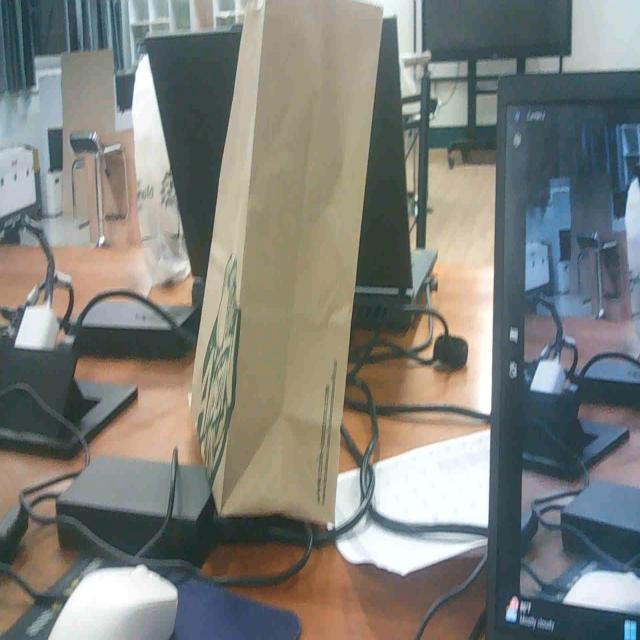bag: (196, 0, 376, 540)
